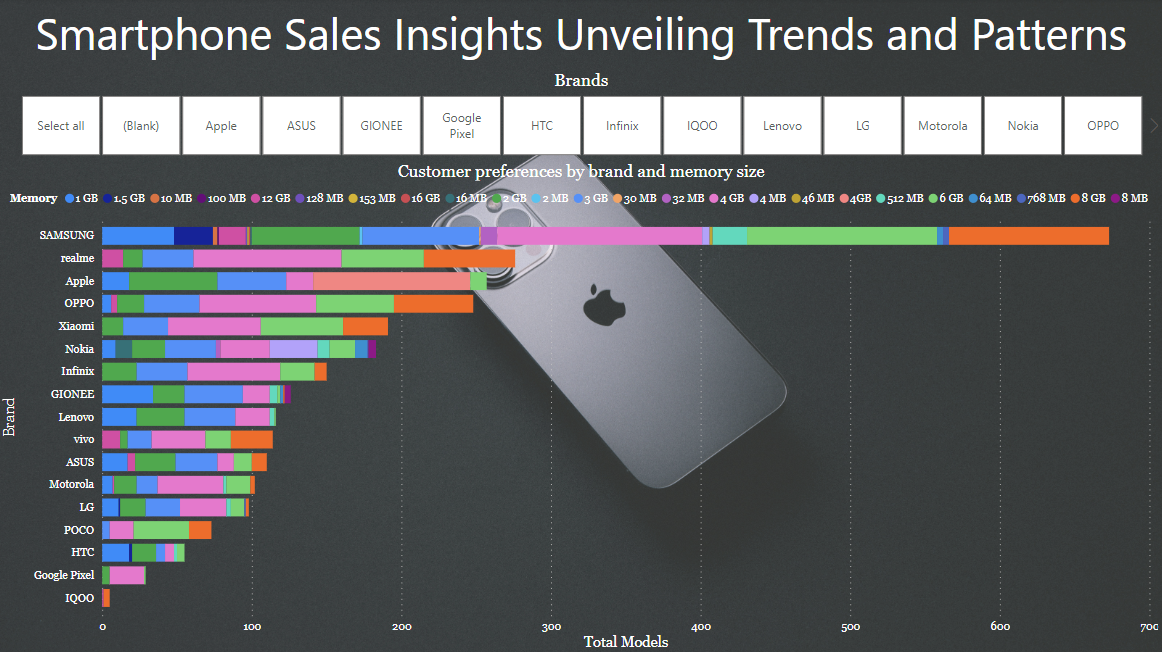

What the dashboard file says about the page in this screenshot:
{"tool":"powerbi","page":{"name":"Dashboard 6","canvas":[1280,720],"ordinal":2},"visuals":[{"type":"textbox","box":[0,0,1280.3,79.6],"z":0},{"type":"slicer","title":"Brands","fields":{"Values":["1.Brand"]},"box":[0,79.6,1280.3,100.2],"z":1000},{"type":"barChart","title":"Customer preferences by brand and memory size","fields":{"Category":["17.Brand"],"Series":["17.Memory"],"Y":["Sum(17.TotalModels)"]},"box":[0,179.8,1280.3,540.7],"z":2000}]}

Visuals, with their boxes in screenshot pixels (x1, y1, x2, y2), scaled from the page's 1280x720 canvas onto the 1162x652 screenshot:
textbox: (0,0,1161,72)
"Brands" slicer: (0,72,1161,163)
"Customer preferences by brand and memory size" barChart: (0,163,1161,651)
